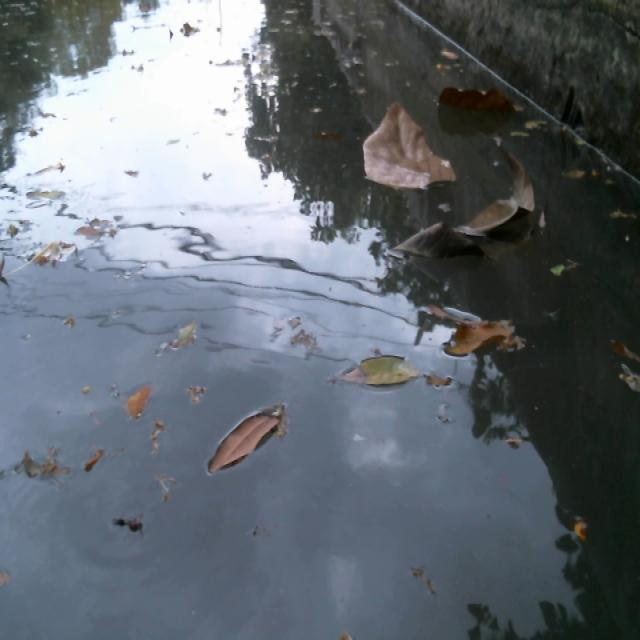Big-leaf: (392, 155, 543, 275), (364, 92, 453, 205), (415, 298, 524, 372), (428, 72, 525, 120)
Small-leaf: (202, 385, 291, 483), (328, 345, 415, 398), (4, 448, 71, 488), (613, 341, 640, 406), (122, 388, 152, 423)
